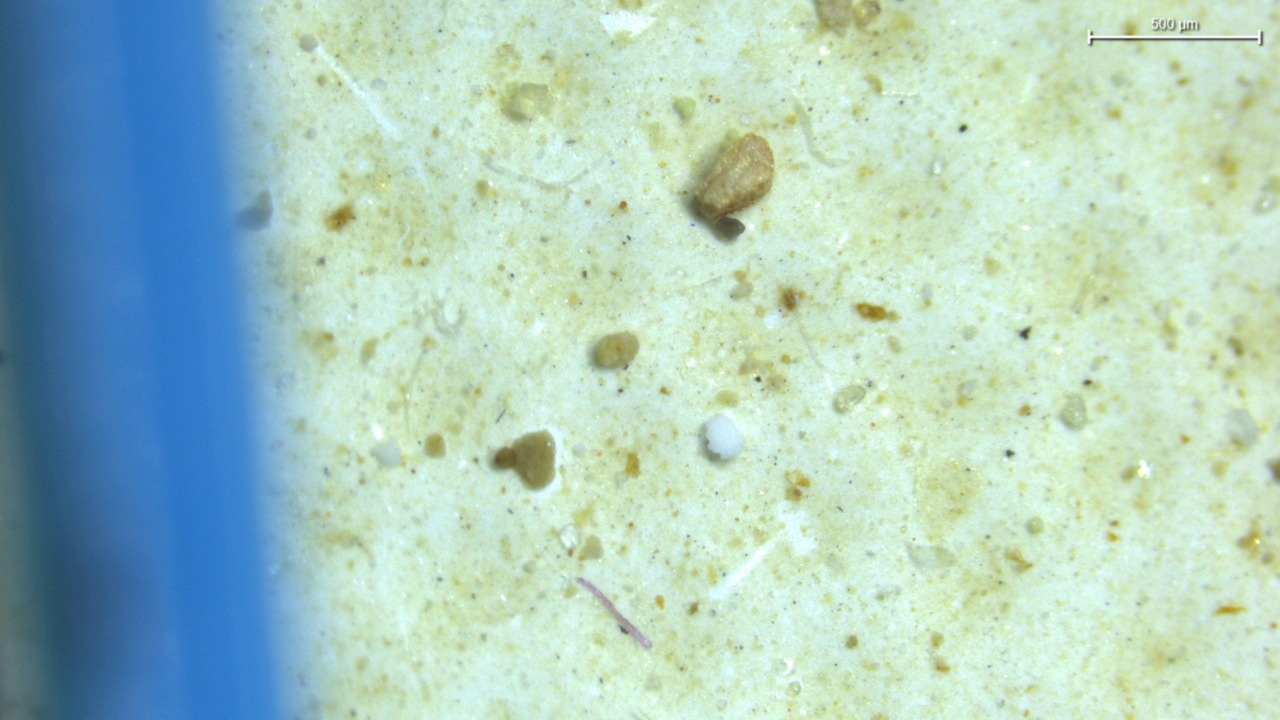microplastic_fragment: (696, 133, 774, 218), (702, 415, 745, 461), (594, 331, 639, 368)
